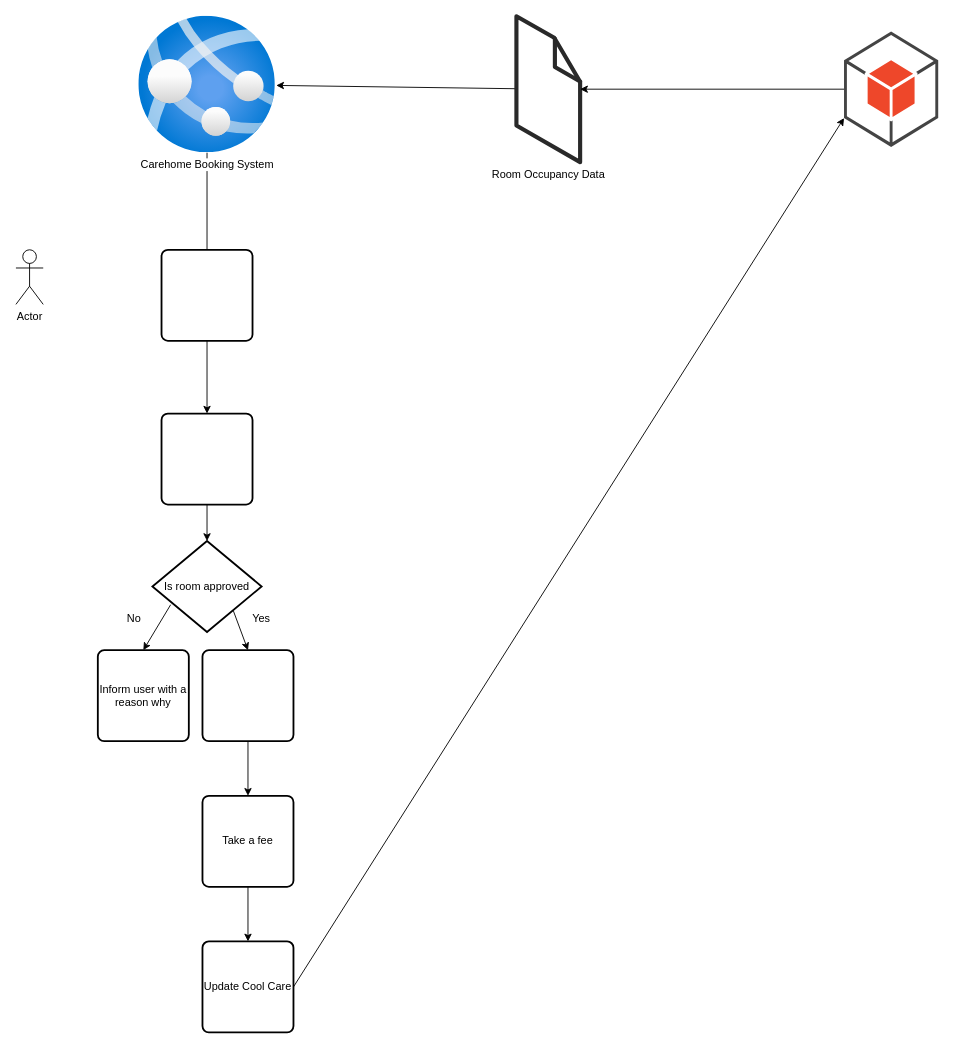
The diagram is 955 pixels wide and 1049 high, and some of its shapes have lost their labels. Each missing label, with the centre of its shape:
"Book Room and inform the user" belongs at point 247,695.
"Cool Care" belongs at point 890,88.
"Enter Room Enquiry" belongs at point 206,294.
"Room Sent For Approval" belongs at point 206,458.
